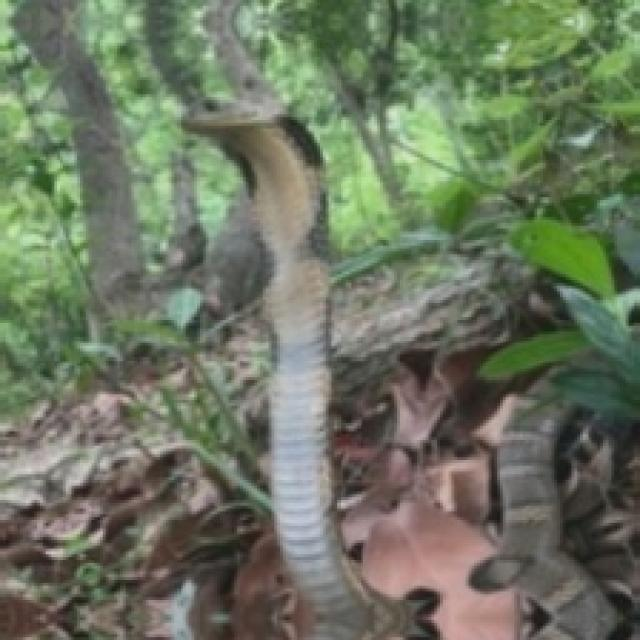king cobra: (183, 111, 369, 637), (363, 520, 591, 637)
